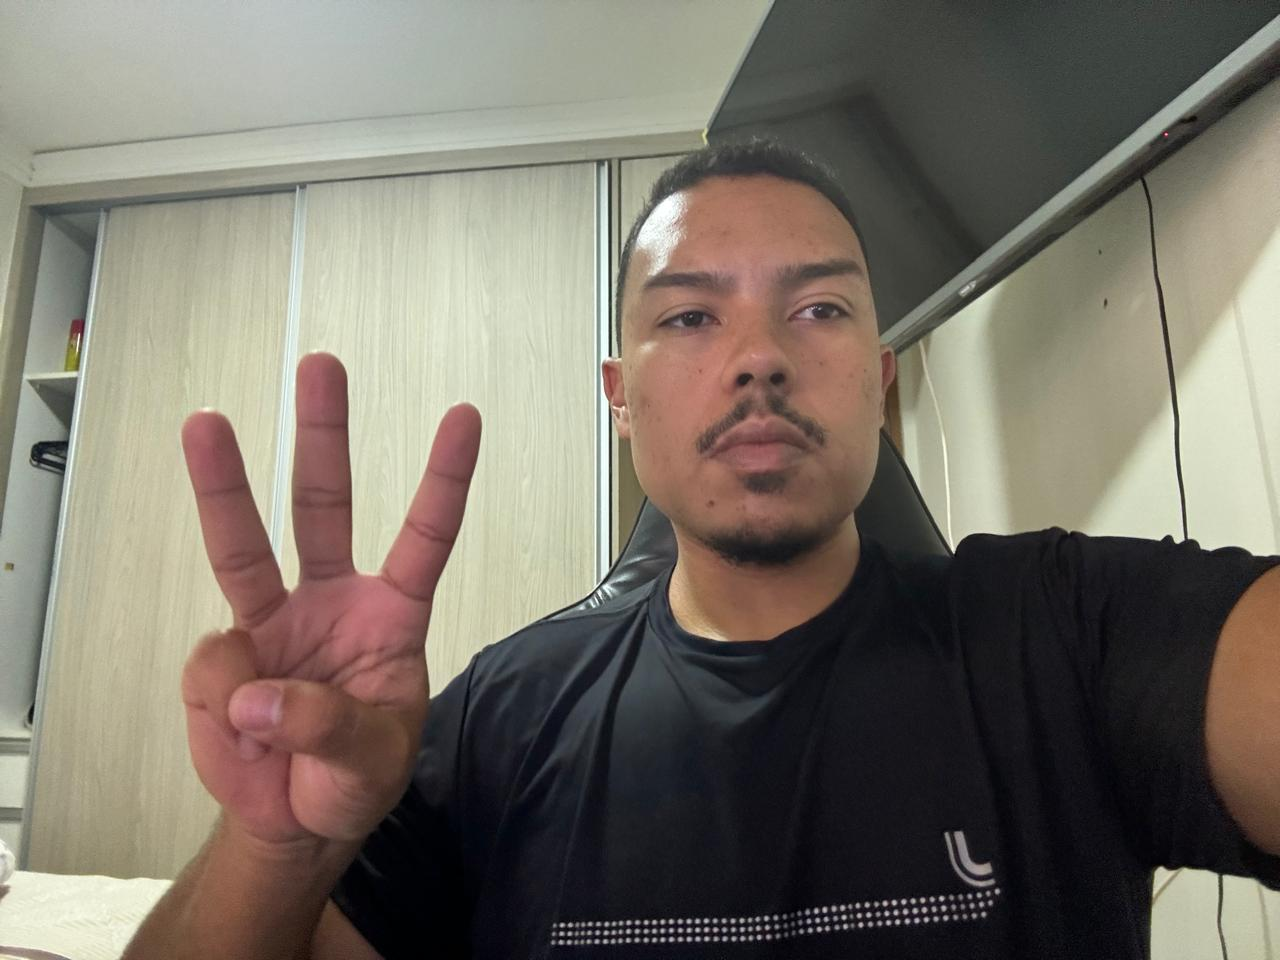w: (168, 344, 486, 862)
